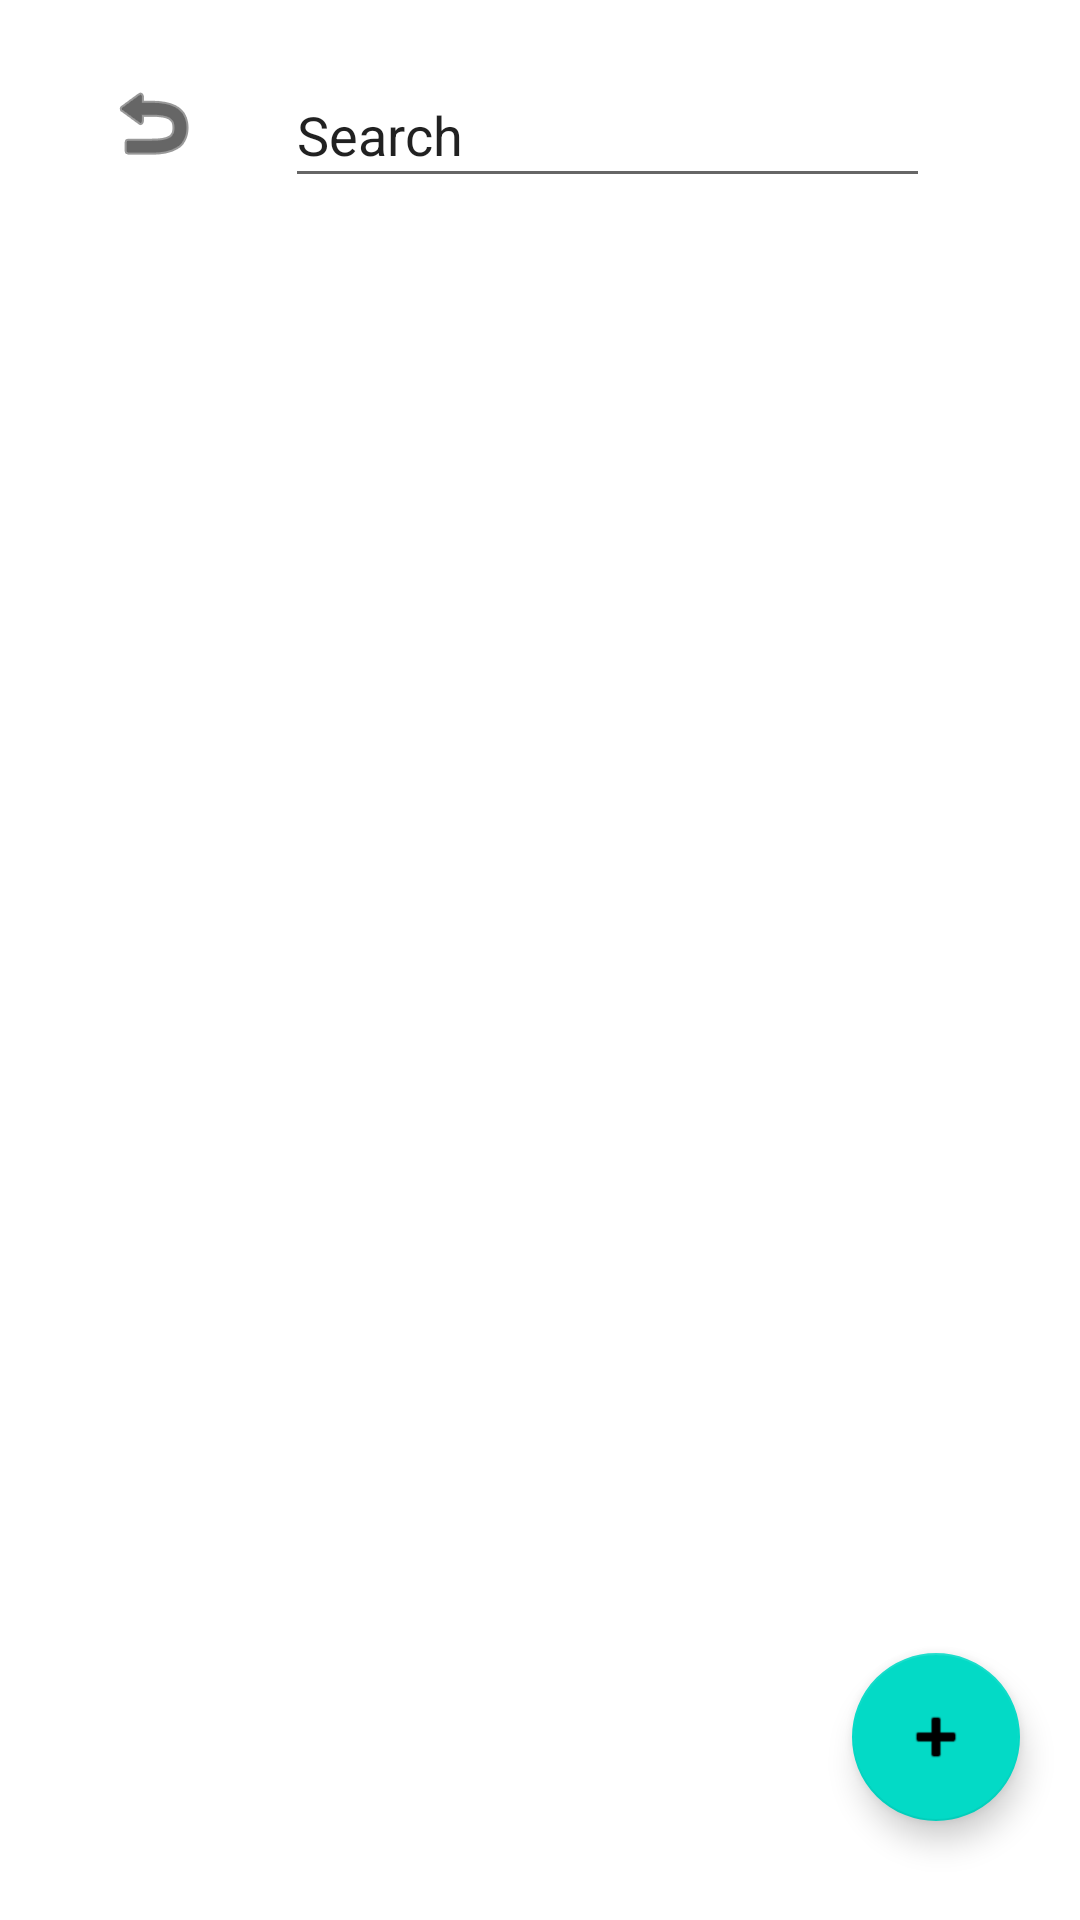

Icons on this 1080w x 1920h Android screen, each with its box as (x1, y1, x2, y2):
add: (852, 1653, 1020, 1821)
revert: (120, 92, 189, 155)
